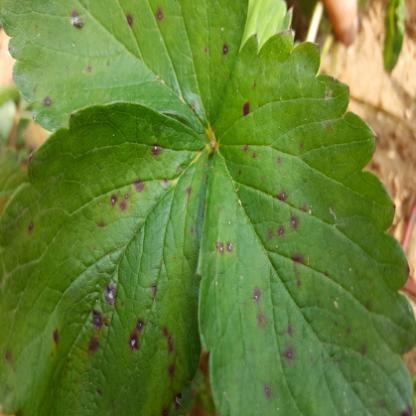Strawberry_Leaf_Spot: (195, 28, 415, 415), (0, 101, 212, 415), (0, 0, 250, 138)
